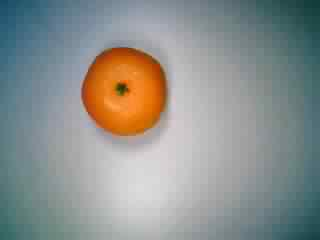orange: (75, 43, 167, 141)
